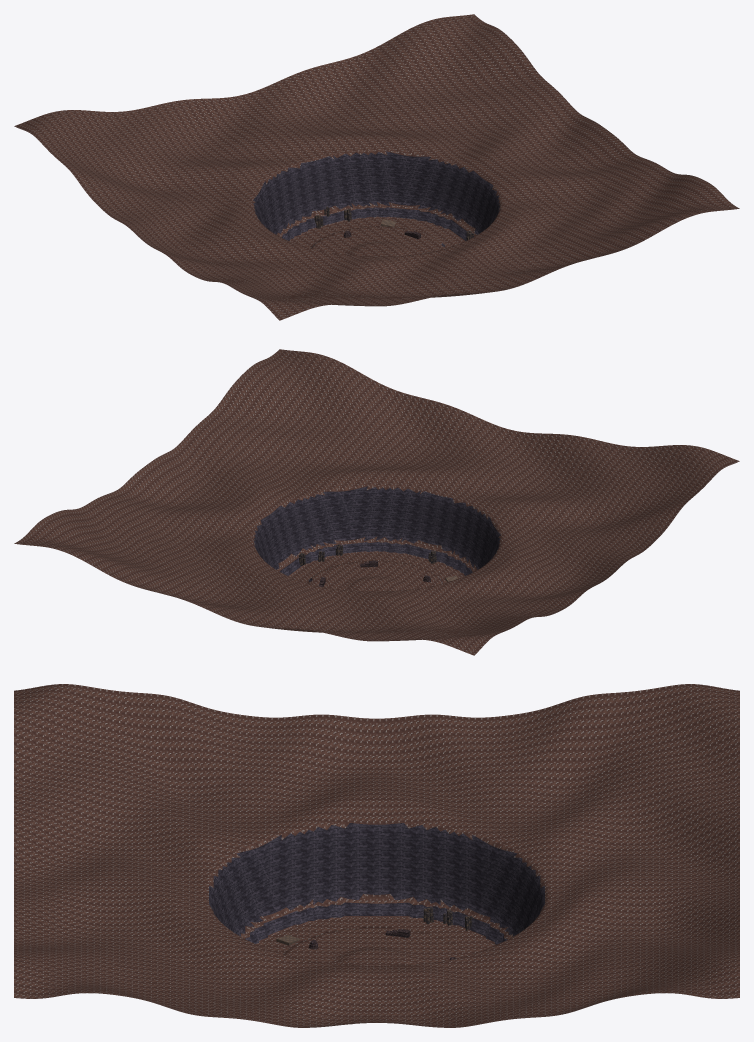
The picture shows the model from 3 angles, top to bottom: view 1: azimuth 30°, elevation 25°; view 2: azimuth 150°, elevation 25°; view 3: azimuth 270°, elevation 25°; orthographic projection. The views are drawn at different scales.
Parts seen in each view (by area): view 1: Crater Bowl; view 2: Crater Bowl; view 3: Crater Bowl.
Boxes of the visible parts, box(x1,y1,x2,y2) form: Crater Bowl: box(14, 14, 739, 320); Crater Bowl: box(14, 349, 739, 655); Crater Bowl: box(14, 684, 739, 1027).
Bounding box in the file's own units: 400 × 82.99 × 400.
5 materials, 5 textured.
